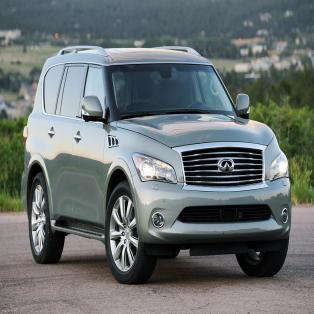Auto: (19, 42, 294, 286)
